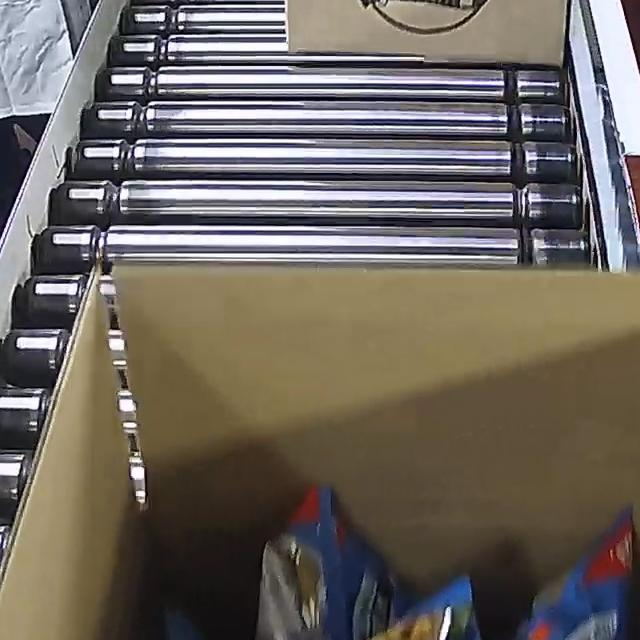paprika: (151, 484, 640, 640)
